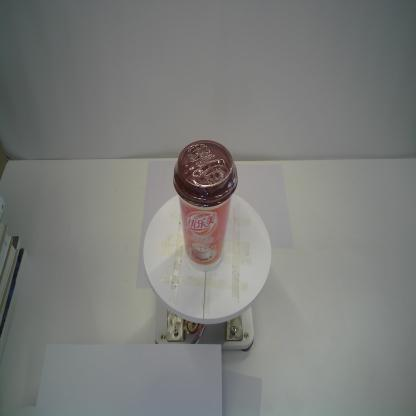Instant Drink: (172, 139, 239, 273)
